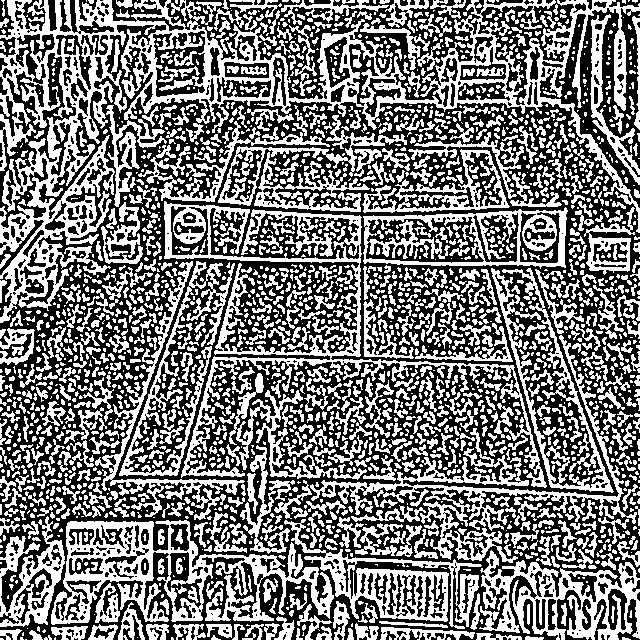left side: (459, 149, 616, 495), (118, 145, 268, 477)
player: (240, 370, 276, 524), (360, 68, 382, 143)
